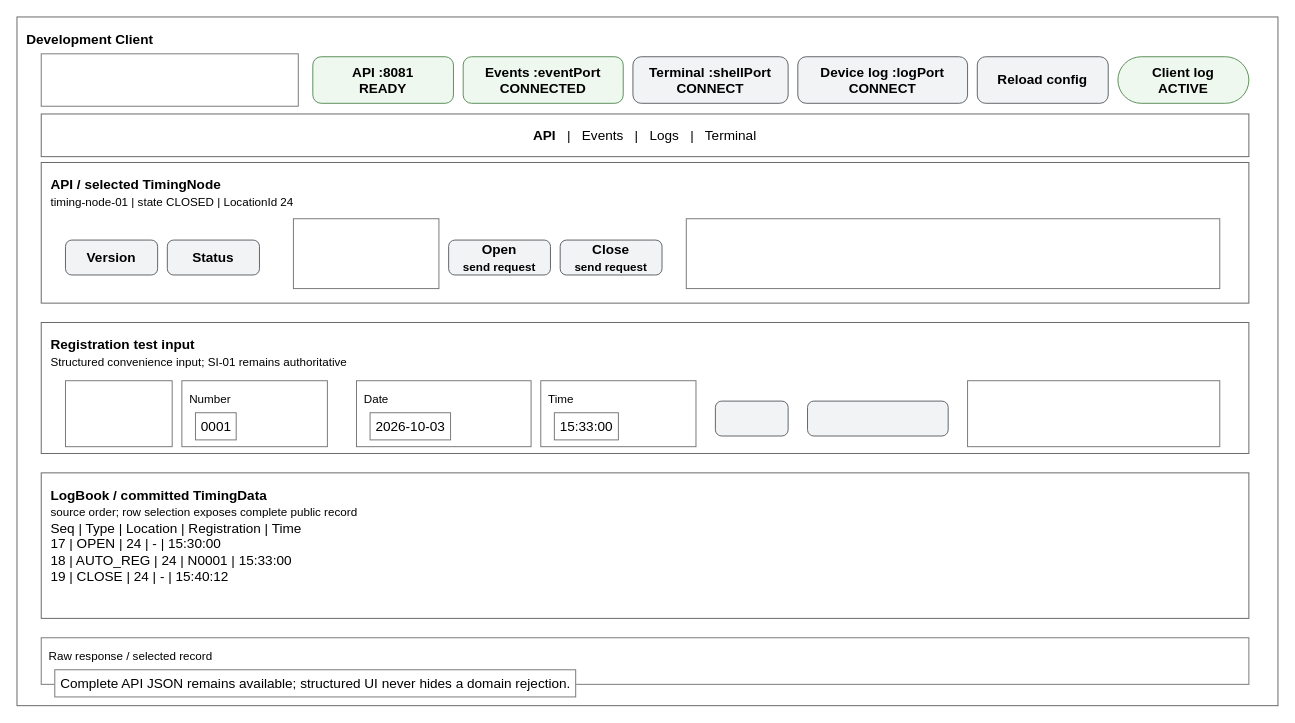
The diagram is 1295 pixels wide and 723 high, and some of its shapes have lost their labels. The shapes that lost their labels are listed below. From the top down, each one's centre as x and y in pixels, then its label:
(169,79): Target 127.0.0.1 | client config file
(365,253): Location 24
(952,253): Last API operation NODE_NOT_OPEN — response retained for inspection
(118,413): Prefix N
(751,418): Now
(877,418): Send auto-reg
(1093,413): Wire value N0001 @ canonical UTC timestamp
